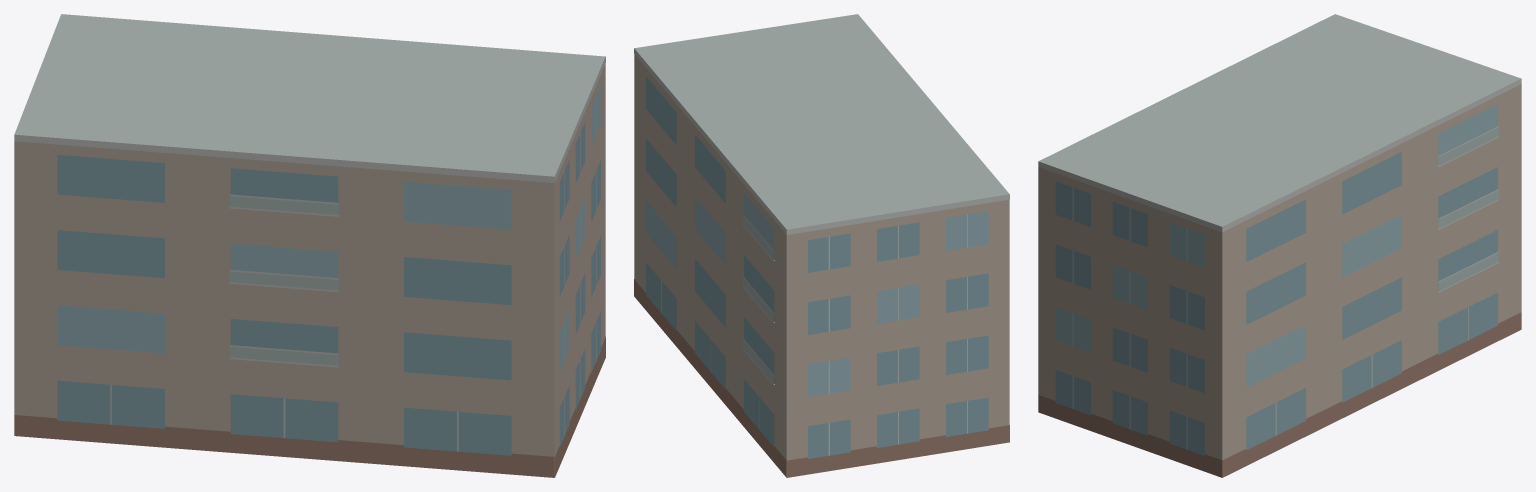
Rendered from survey-upis-33002647.glb.
3 renders of one model, left to right at view 1: azimuth 30°, elevation 25°; view 2: azimuth 150°, elevation 25°; view 3: azimuth 270°, elevation 25°, orthographic. The views are drawn at different scales.
Parts seen in each view (by area): view 1: survey-upis-33002647.tmp; view 2: survey-upis-33002647.tmp; view 3: survey-upis-33002647.tmp.
Part boxes in pixels (<box>): survey-upis-33002647.tmp: <box>14,14,605,477</box>; survey-upis-33002647.tmp: <box>634,14,1009,477</box>; survey-upis-33002647.tmp: <box>1038,14,1521,477</box>.
Bounding box in the file's own units: 20.57 × 11.3 × 19.73.
